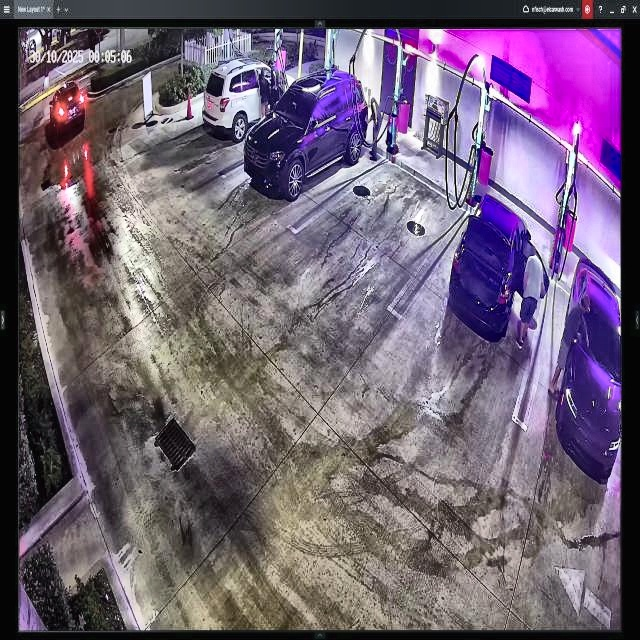Car: (244, 68, 368, 199), (442, 195, 550, 326)
